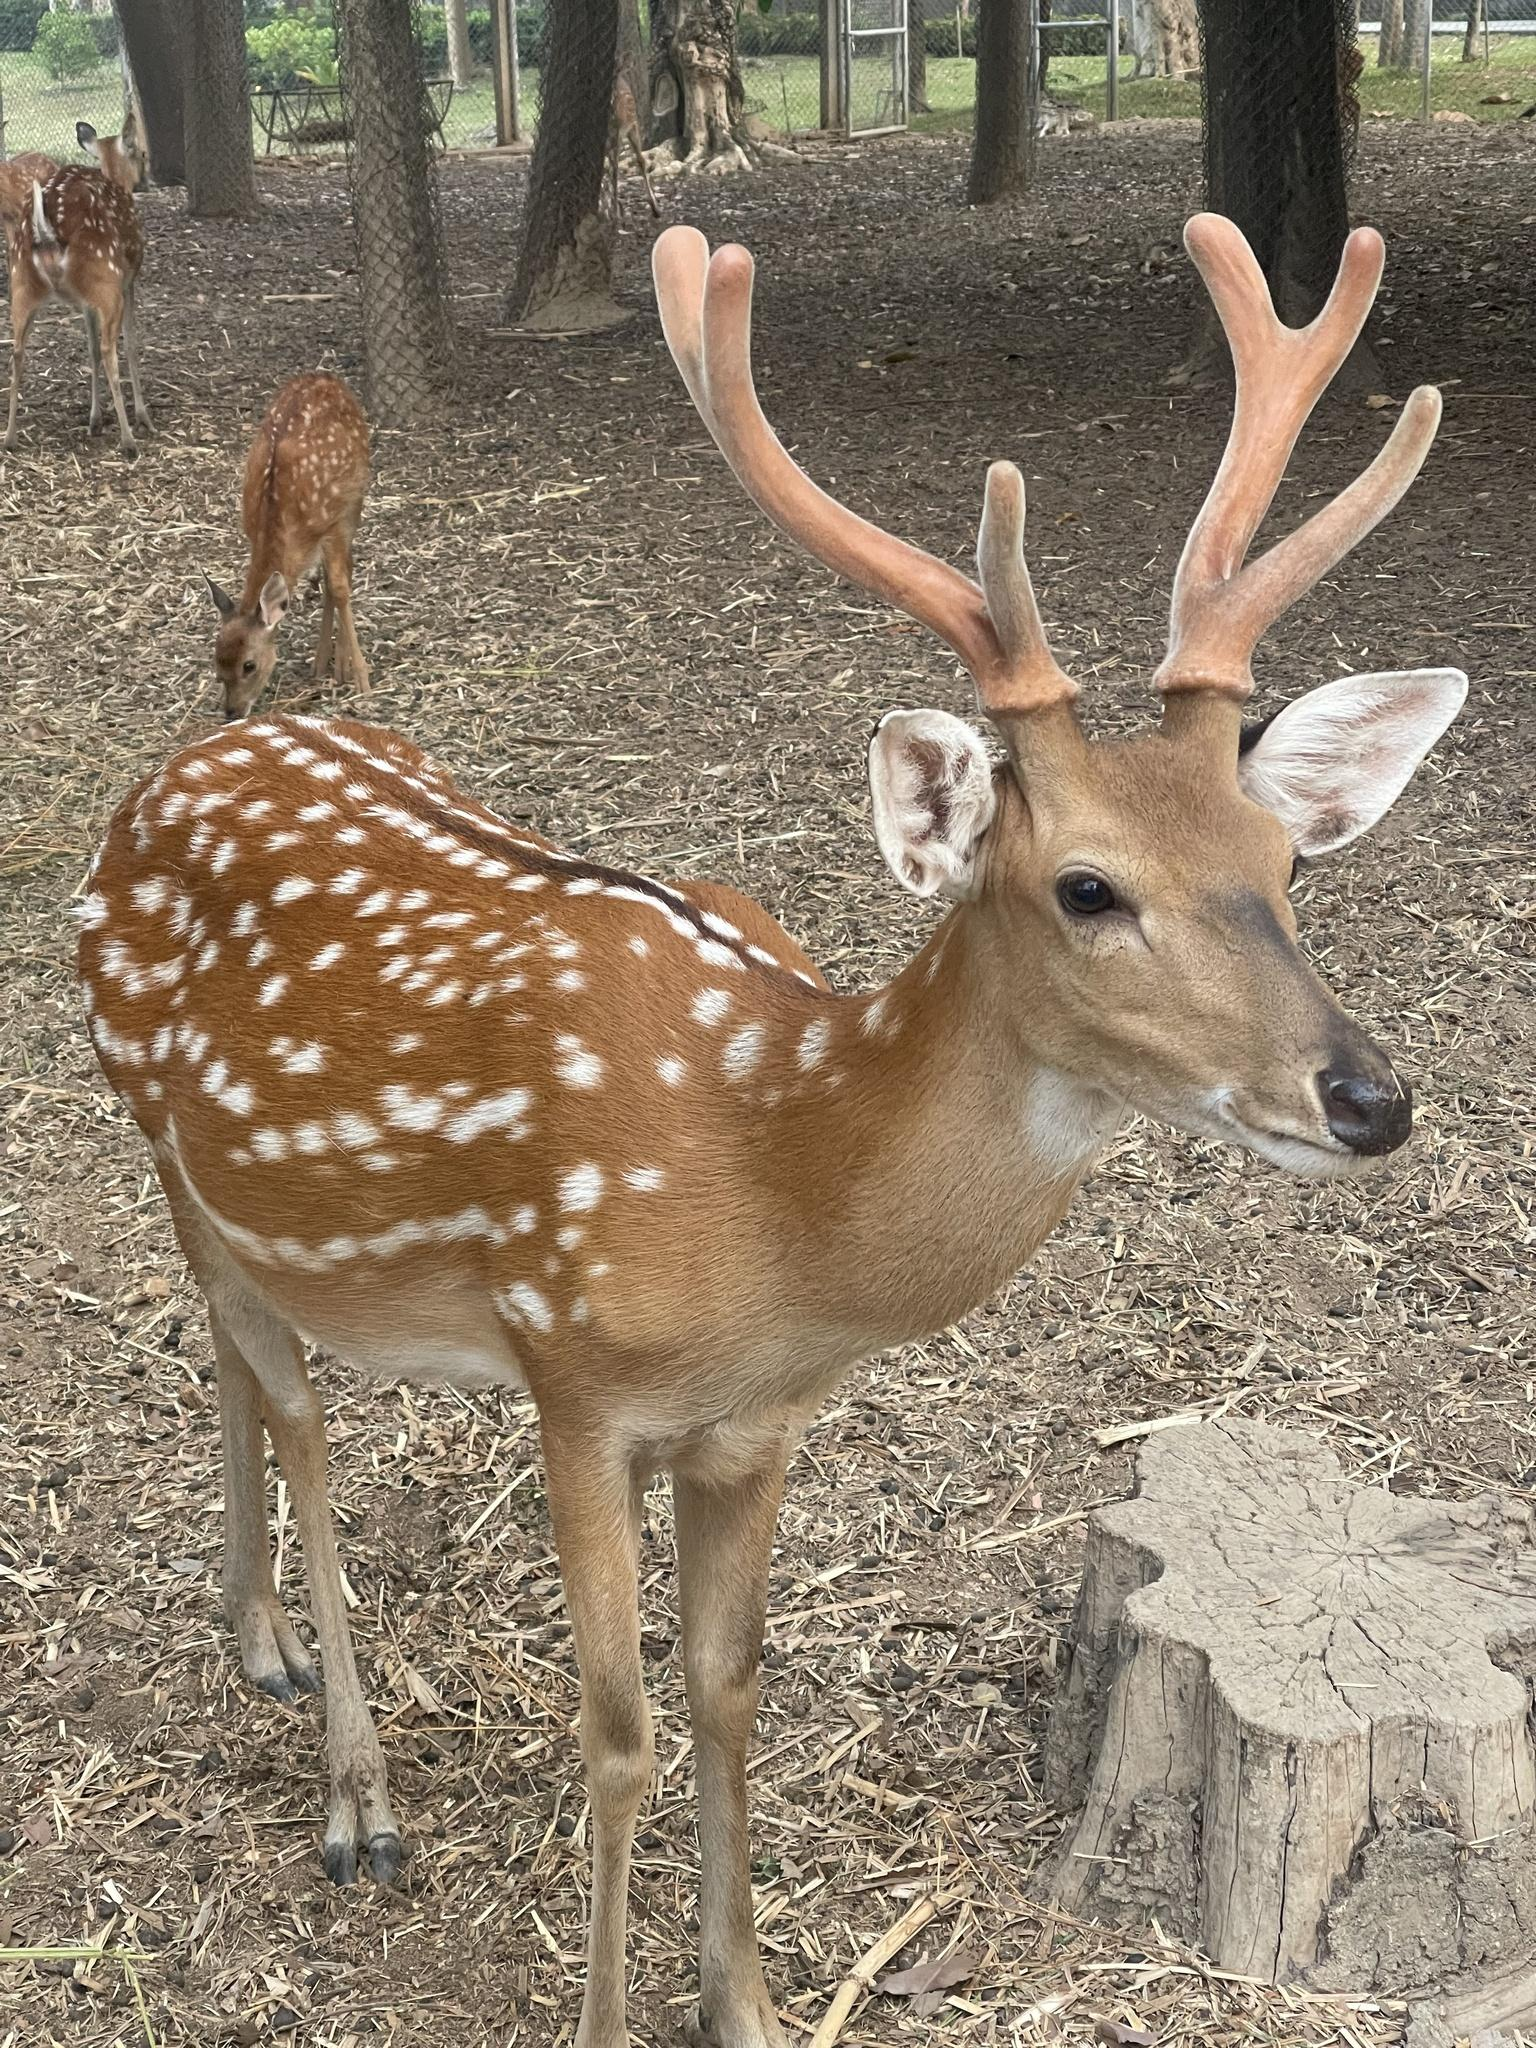Deer: (77, 214, 1467, 2046), (208, 373, 369, 719), (6, 110, 153, 452)
